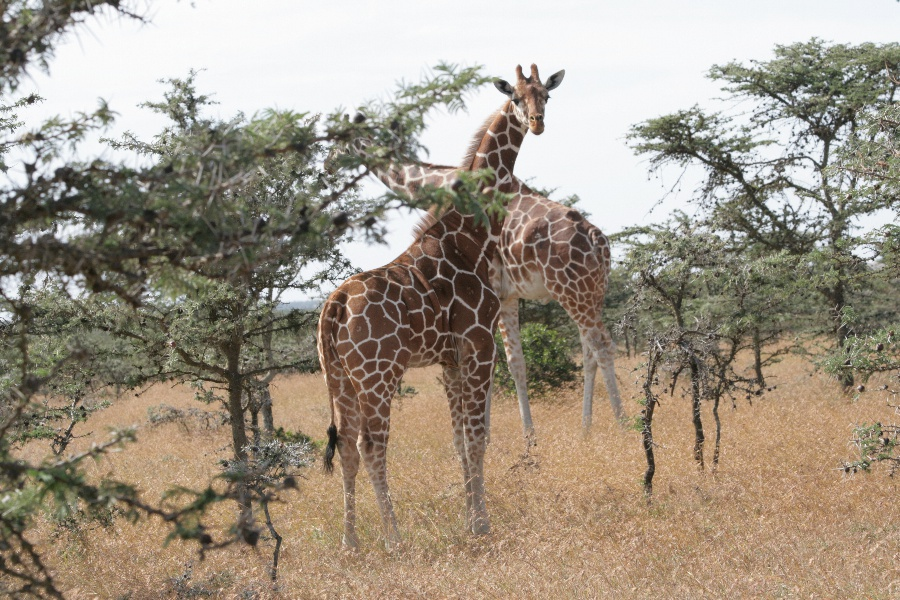giraffe: (314, 51, 572, 553)
